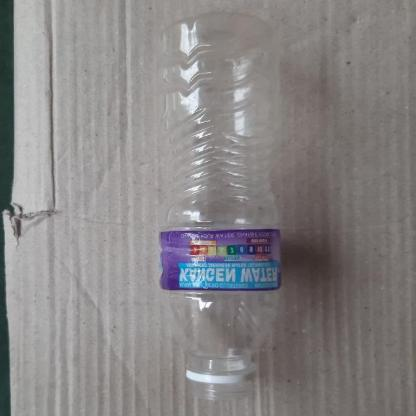Plastic Bottle: (154, 7, 294, 386)
